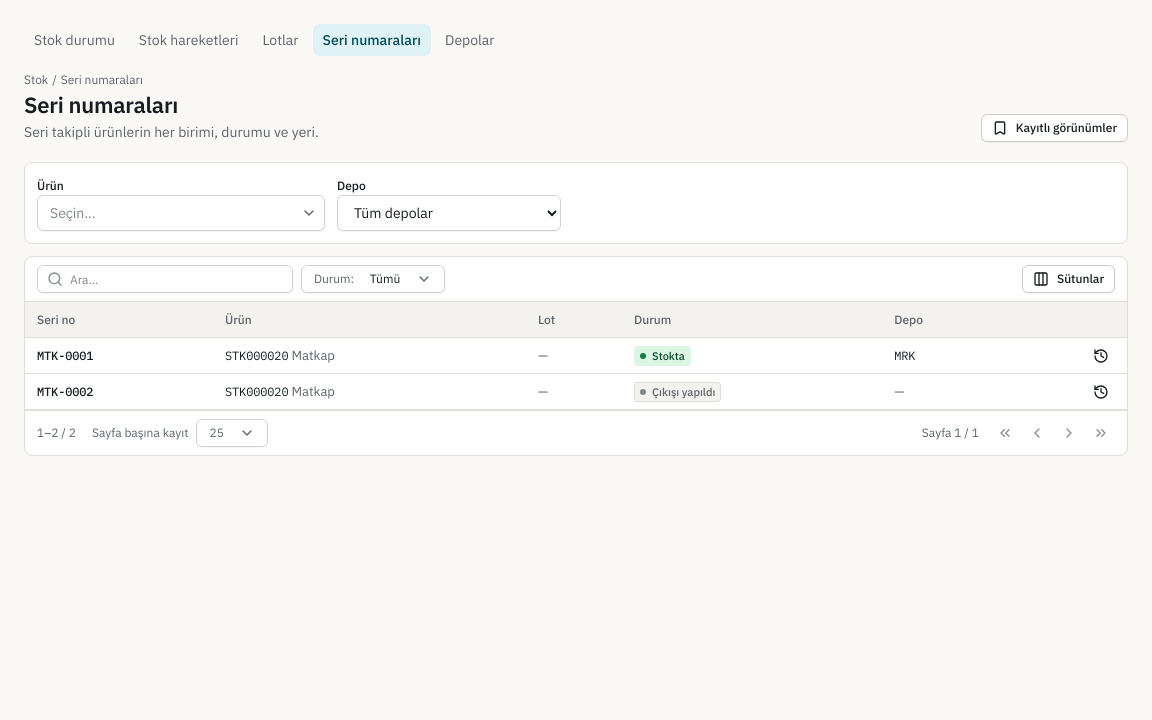
Test case: serial history paging › loads a long serial history page by page instead of truncating it
This screenshot has width=1152, height=720.
Click the button named "MTK-0001 geçmişini aç" at (1101, 356), box [1087,342,1115,370]
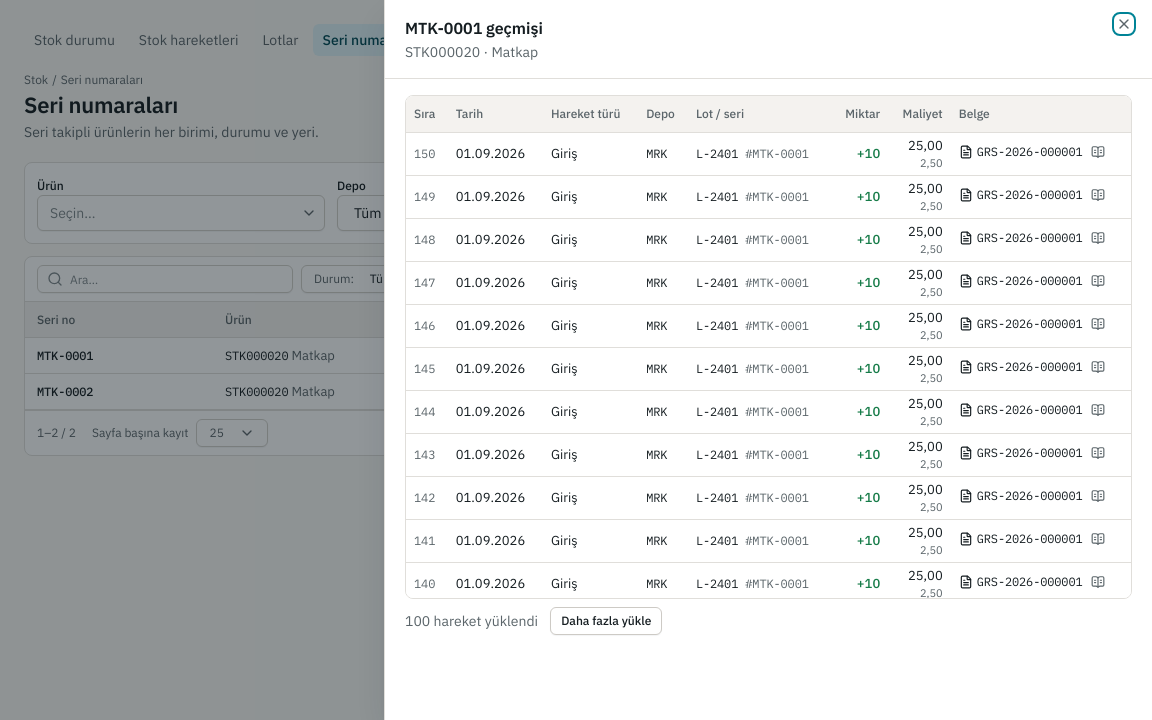
Check: the text "100 hareket yüklendi" is shown, box [405,611,538,631]
Click the button "Daha fazla yükle" at (606, 621), box [550,607,662,635]
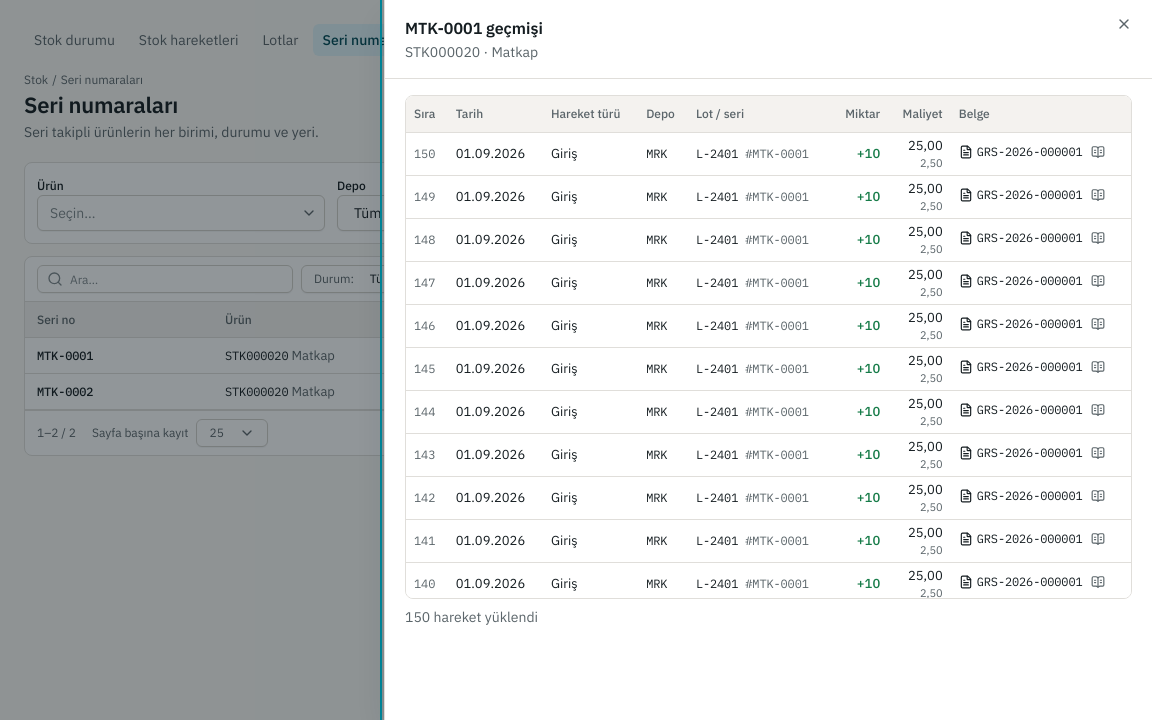
Check: the text "150 hareket yüklendi" is shown, box [405,607,538,627]
Check: the button "Daha fazla yükle" is gone
